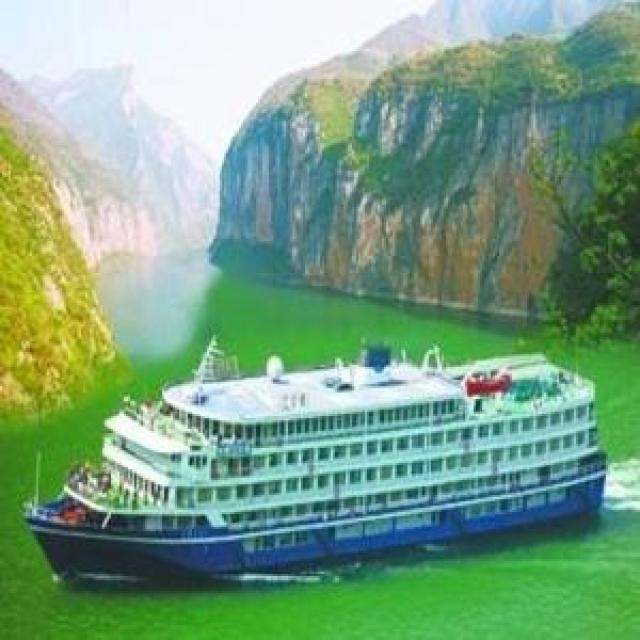passenger ship: (25, 342, 607, 578)
